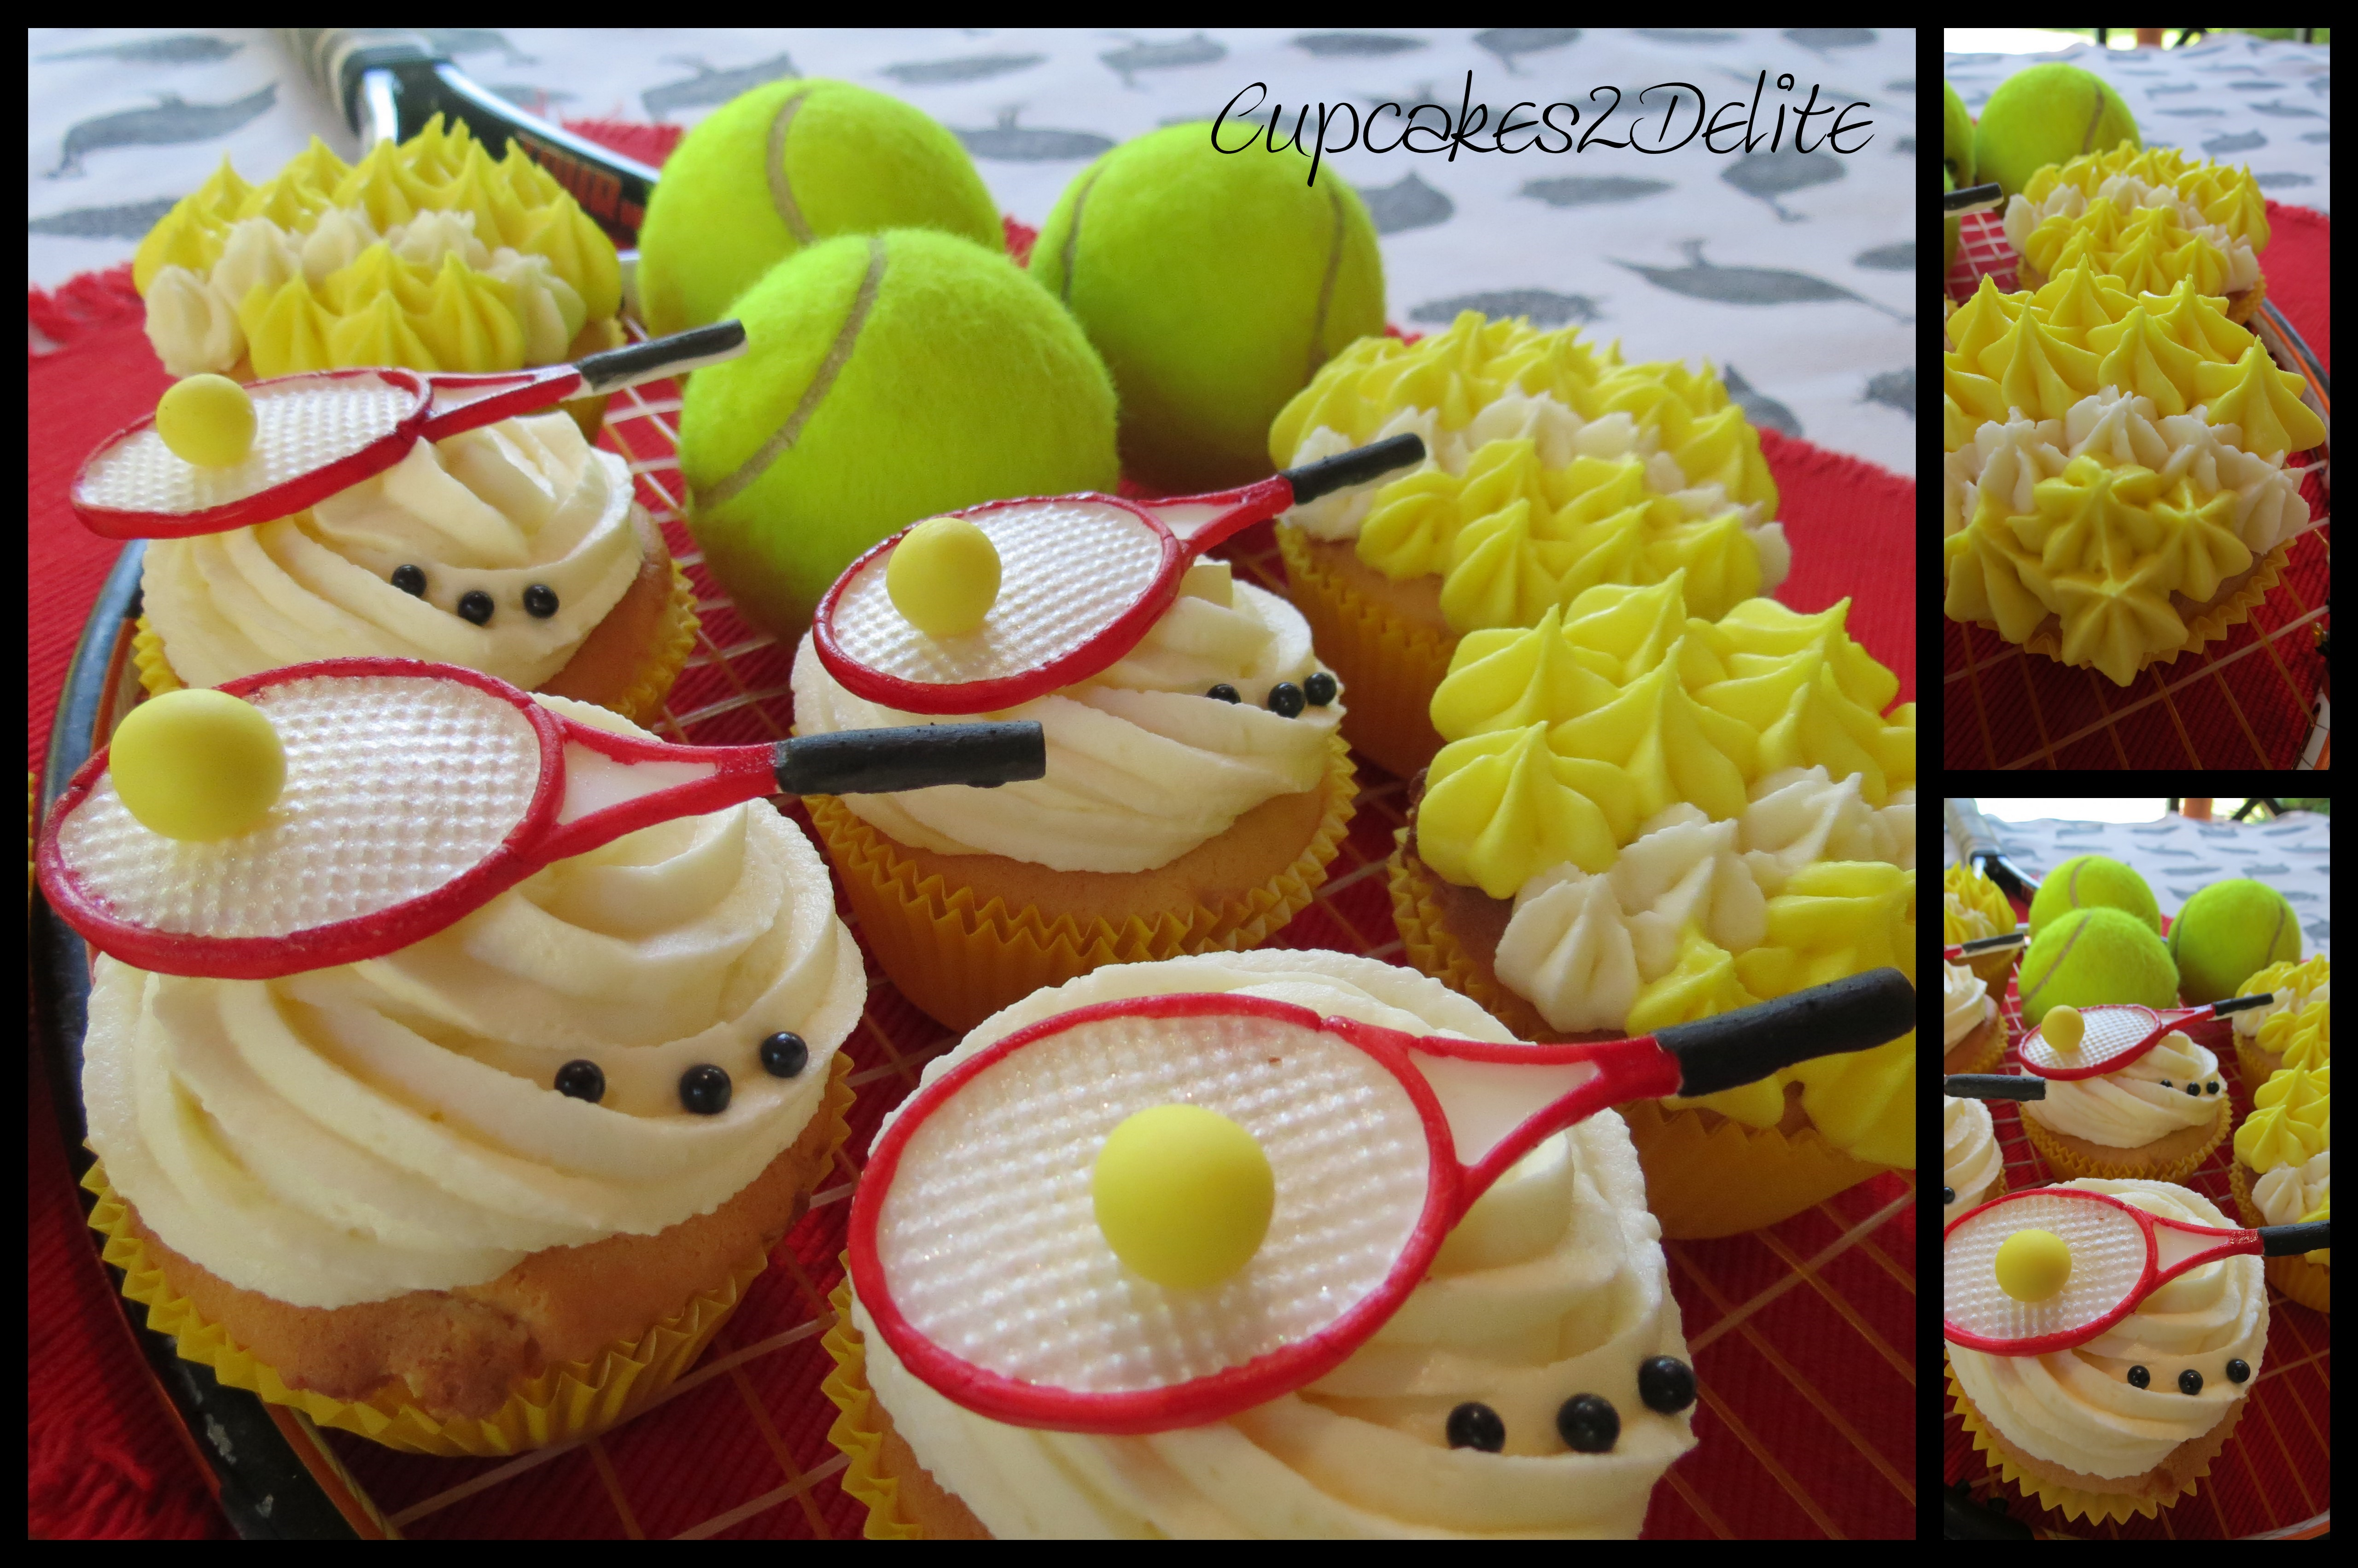tennis_ball: (696, 228, 1113, 602), (1057, 135, 1380, 472), (635, 77, 995, 345), (2006, 905, 2192, 1043), (1978, 54, 2131, 194), (2169, 870, 2307, 999), (2020, 856, 2169, 952)
